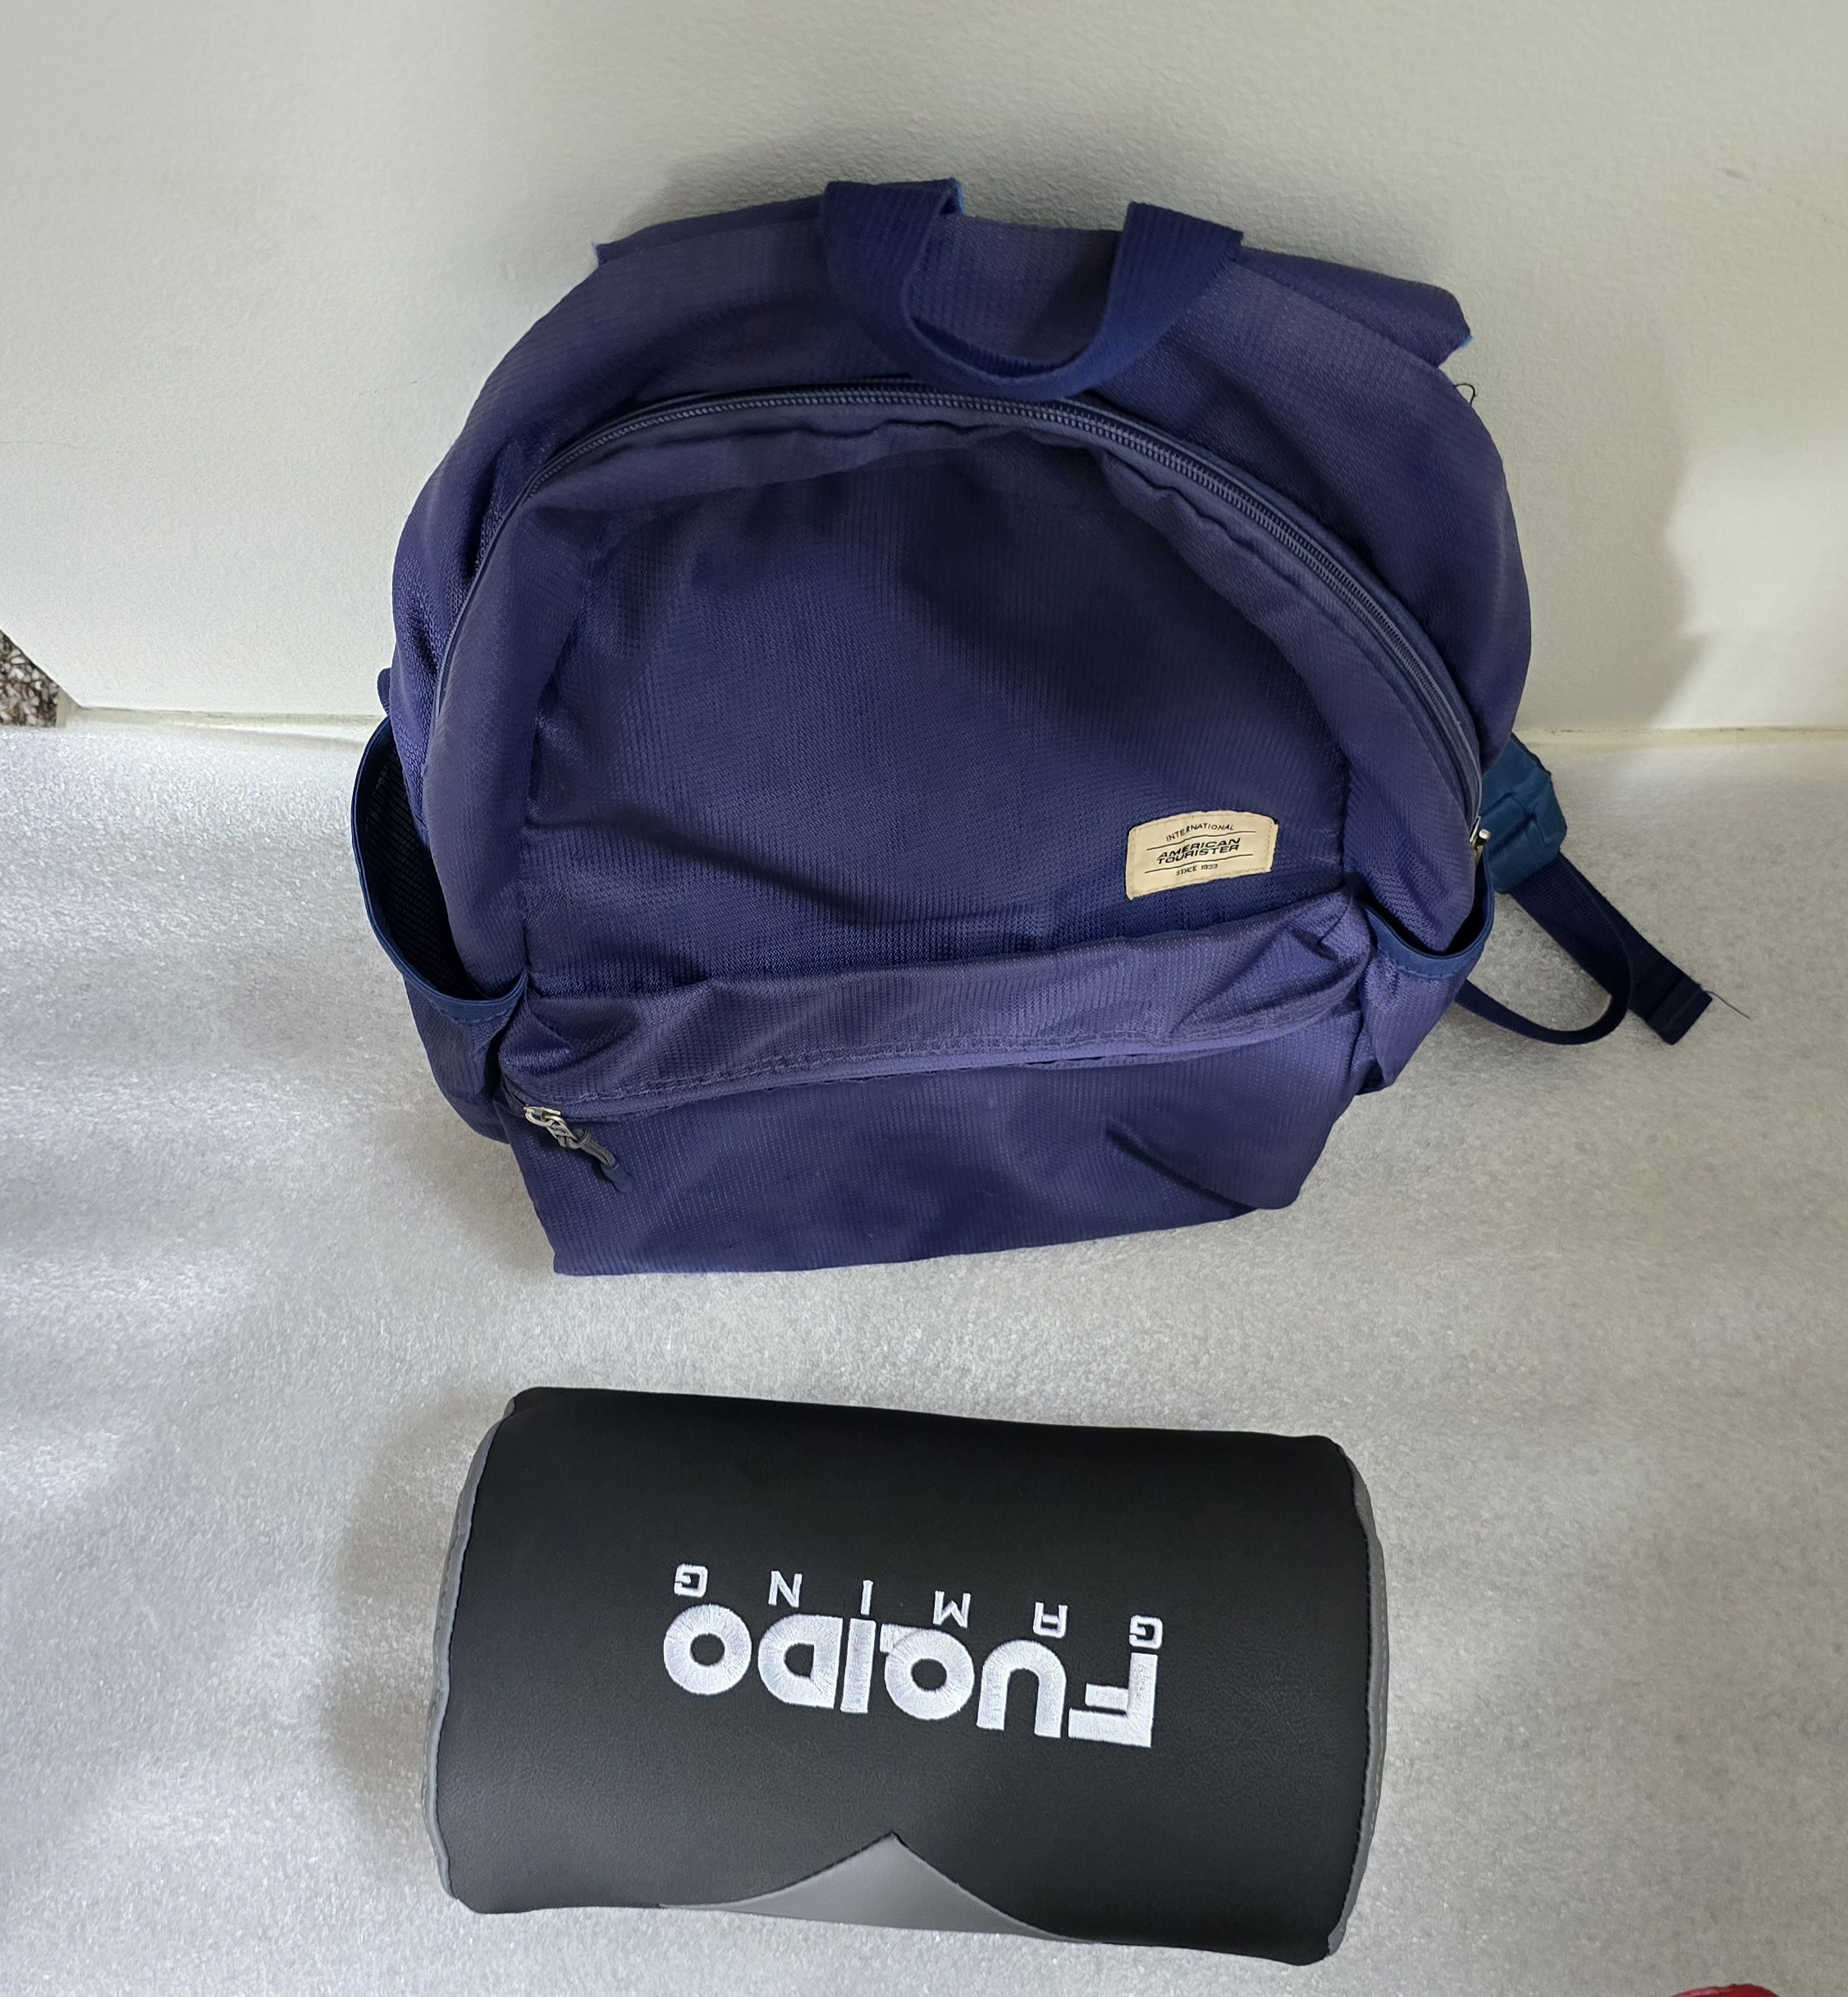bag: (318, 129, 1799, 1322)
